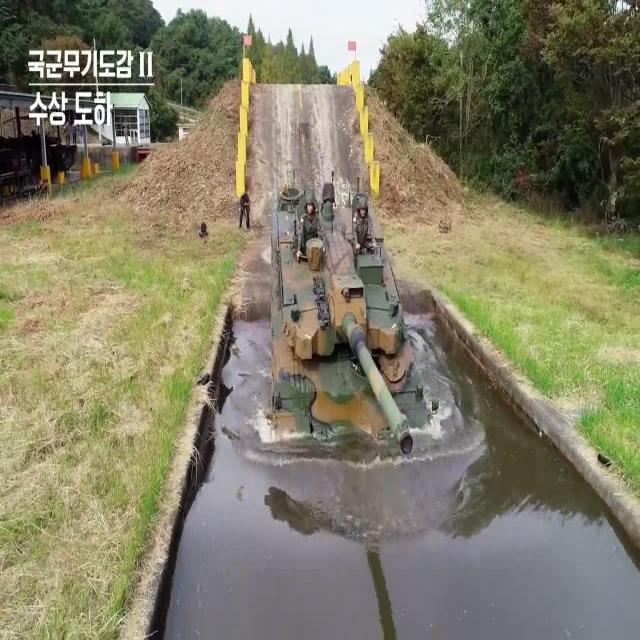korea tank: (264, 165, 440, 456)
